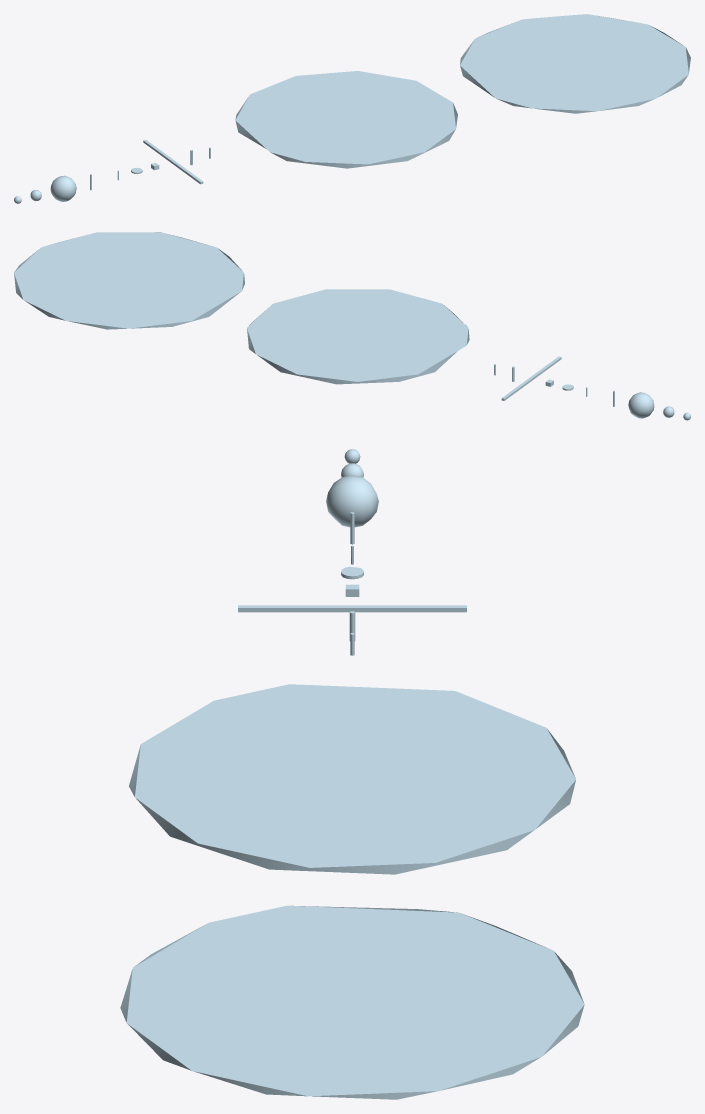
Rendered from agrokruh_kit_lod2.glb.
3 views of the same model, one above another, from view 1: azimuth 30°, elevation 25°; view 2: azimuth 150°, elevation 25°; view 3: azimuth 270°, elevation 25° (orthographic). The views are drawn at different scales.
Parts seen in each view (by area): view 1: Agro soil bed, Agro crop pad, Tree canopy, Agro arm boom; view 2: Agro soil bed, Agro crop pad, Tree canopy, Agro arm boom; view 3: Agro soil bed, Agro crop pad, Tree canopy, Agro arm boom.
Boxes of the visible parts, bbox=[...] form: Agro soil bed: bbox=[460, 14, 690, 113]; Agro crop pad: bbox=[235, 71, 457, 168]; Tree canopy: bbox=[50, 175, 76, 201]; Agro arm boom: bbox=[143, 140, 203, 184]; Agro soil bed: bbox=[14, 232, 244, 329]; Agro crop pad: bbox=[247, 289, 469, 384]; Tree canopy: bbox=[628, 392, 654, 418]; Agro arm boom: bbox=[501, 356, 561, 400]; Agro soil bed: bbox=[120, 905, 584, 1099]; Agro crop pad: bbox=[129, 684, 575, 874]; Tree canopy: bbox=[326, 475, 378, 527]; Agro arm boom: bbox=[238, 605, 466, 612].
Bounding box in the file's own units: 72.16 × 2.5 × 21.98.
